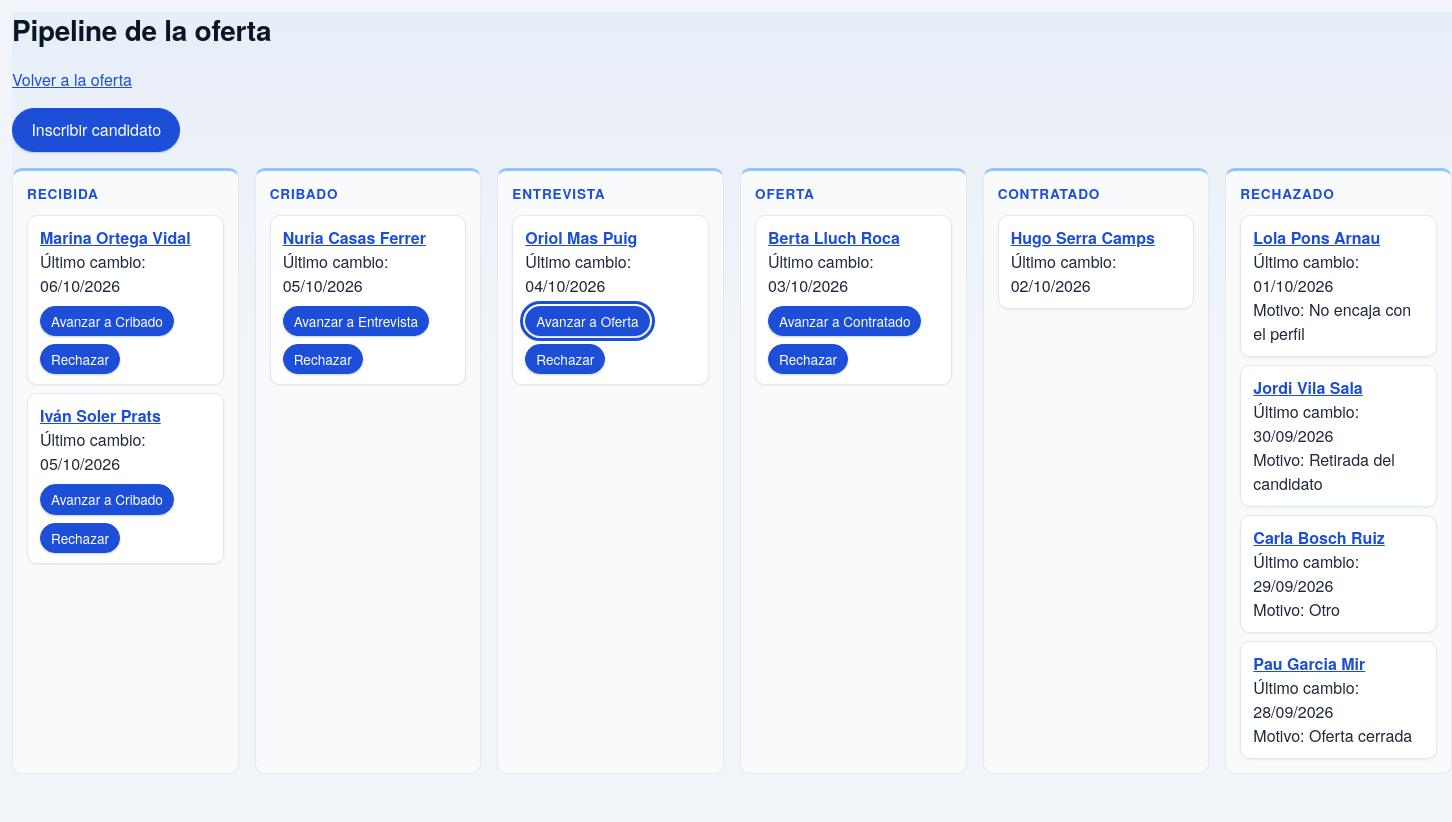
PipelineScreen: avanzar de etapa › EC-33 404 NOT_FOUND → texto de DT-06, foco en la alerta y recarga
Click the button named "Avanzar a Oferta: Oriol Mas Puig": point(587, 321) left=525, top=306, right=650, bottom=336
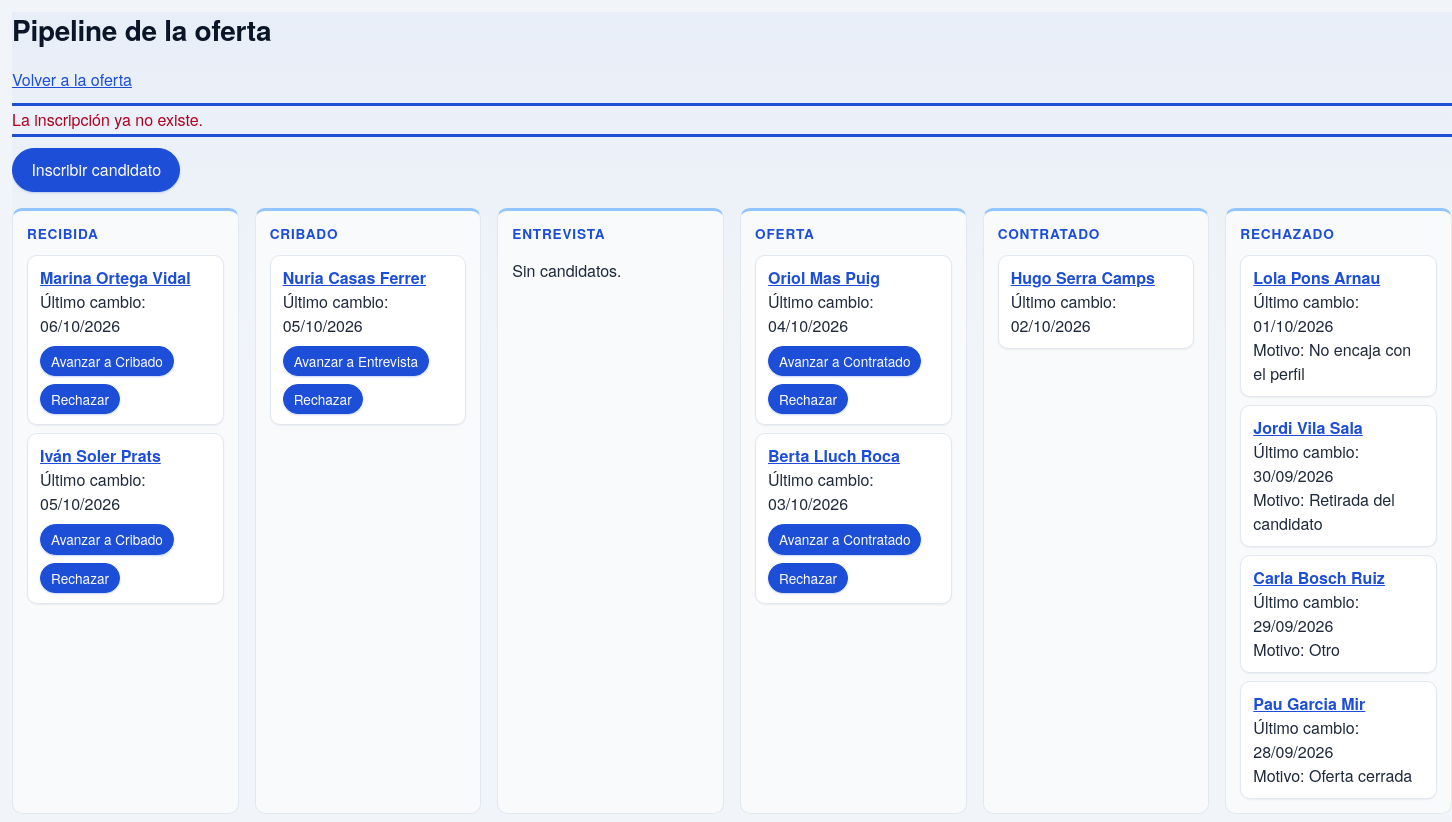
Expected: the link "Oriol Mas Puig" is shown, left=768, top=266, right=880, bottom=289
Result: the message reads "La inscripción ya no existe." at left=12, top=108, right=203, bottom=131
